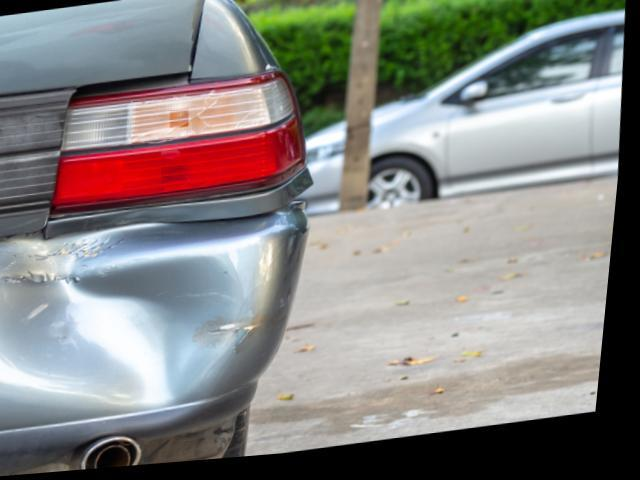dent: (0, 233, 250, 411)
lamp broken: (55, 75, 311, 223)
